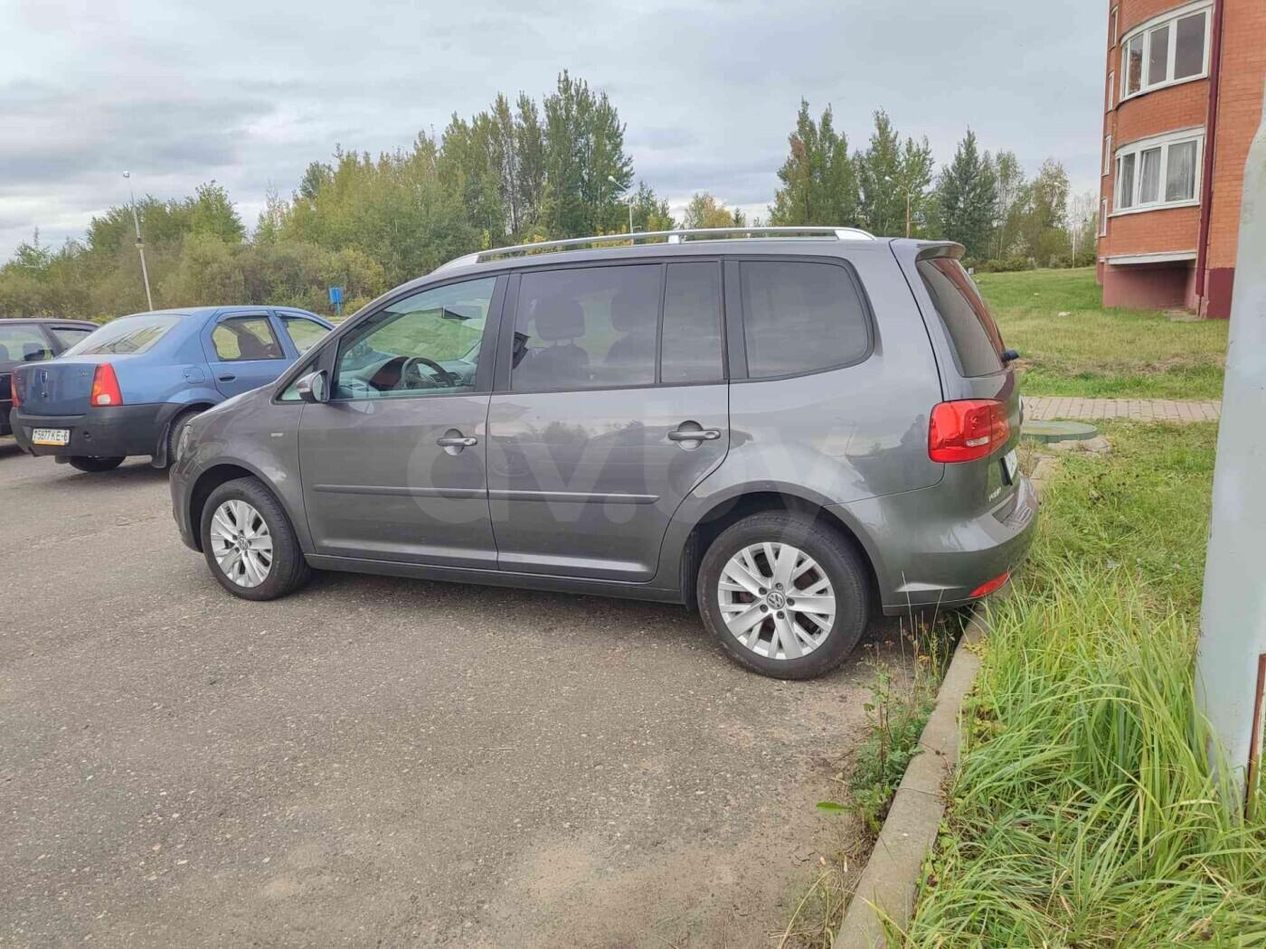Touran_2010-2015: (176, 234, 1053, 679)
